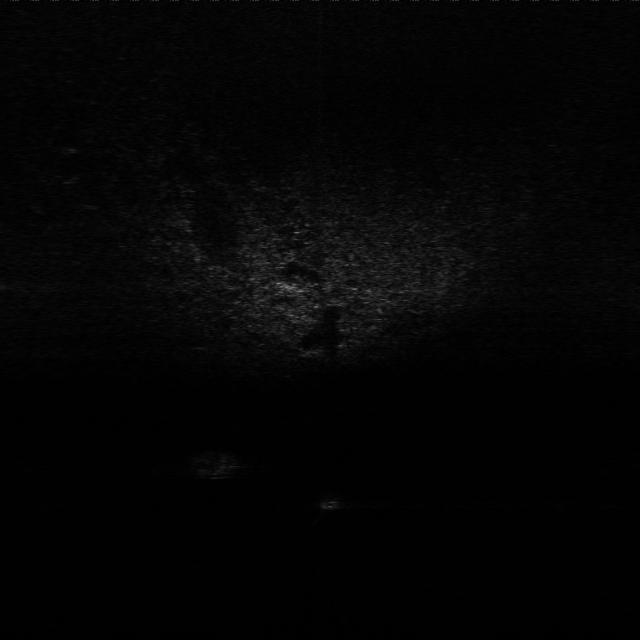circle cage: (189, 450, 243, 483)
cylinder: (313, 495, 346, 514)
